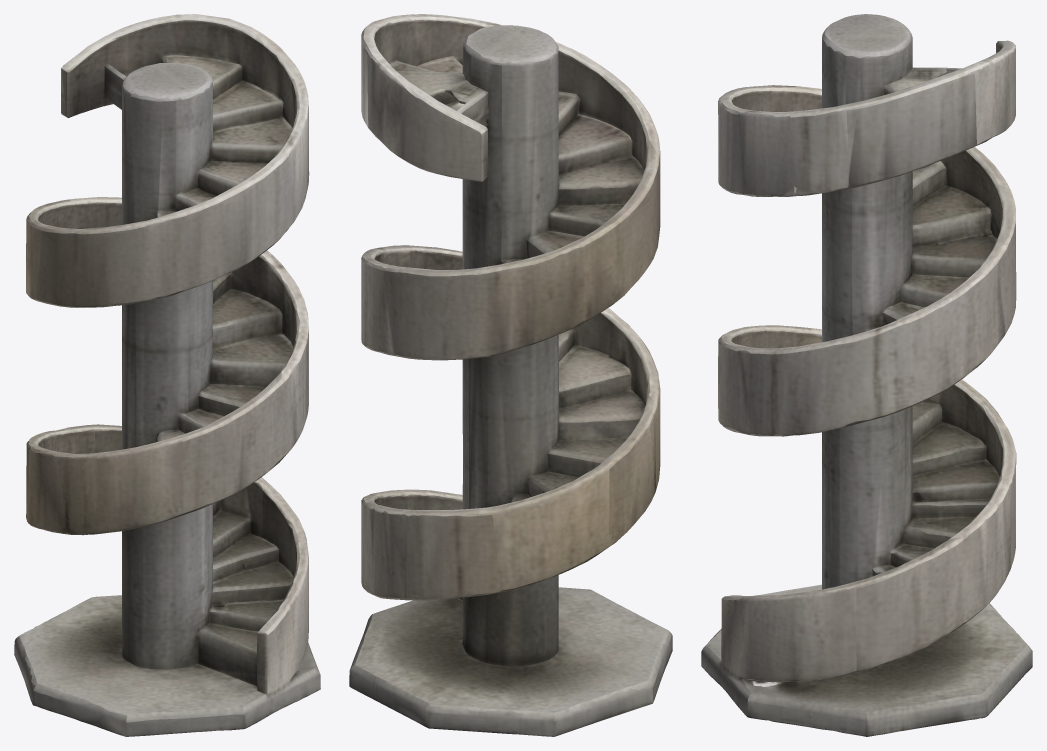
Rendered from lm_stair.glb.
3 renders of one model, left to right at view 1: azimuth 30°, elevation 25°; view 2: azimuth 150°, elevation 25°; view 3: azimuth 270°, elevation 25°, orthographic. The views are drawn at different scales.
Parts seen in each view (by area): view 1: world; view 2: world; view 3: world.
Part boxes in pixels (x1,y1,x2,y2): world: (14, 14, 320, 736); world: (349, 14, 672, 736); world: (701, 14, 1032, 736).
Bounding box in the file's own units: 14.07 × 30 × 14.03.
1 material, 1 textured.
